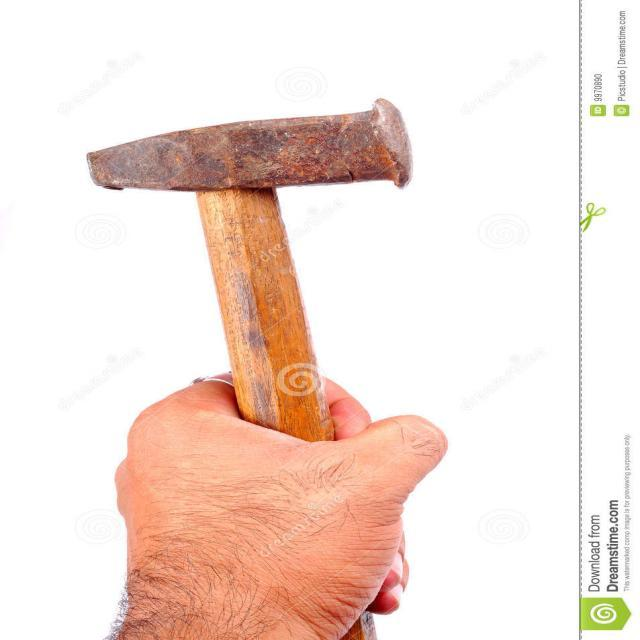hammer: (78, 92, 420, 640)
